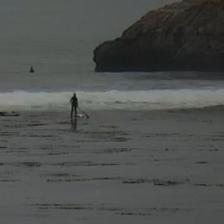surfer: (69, 93, 78, 117), (29, 67, 35, 74), (0, 110, 7, 116)
